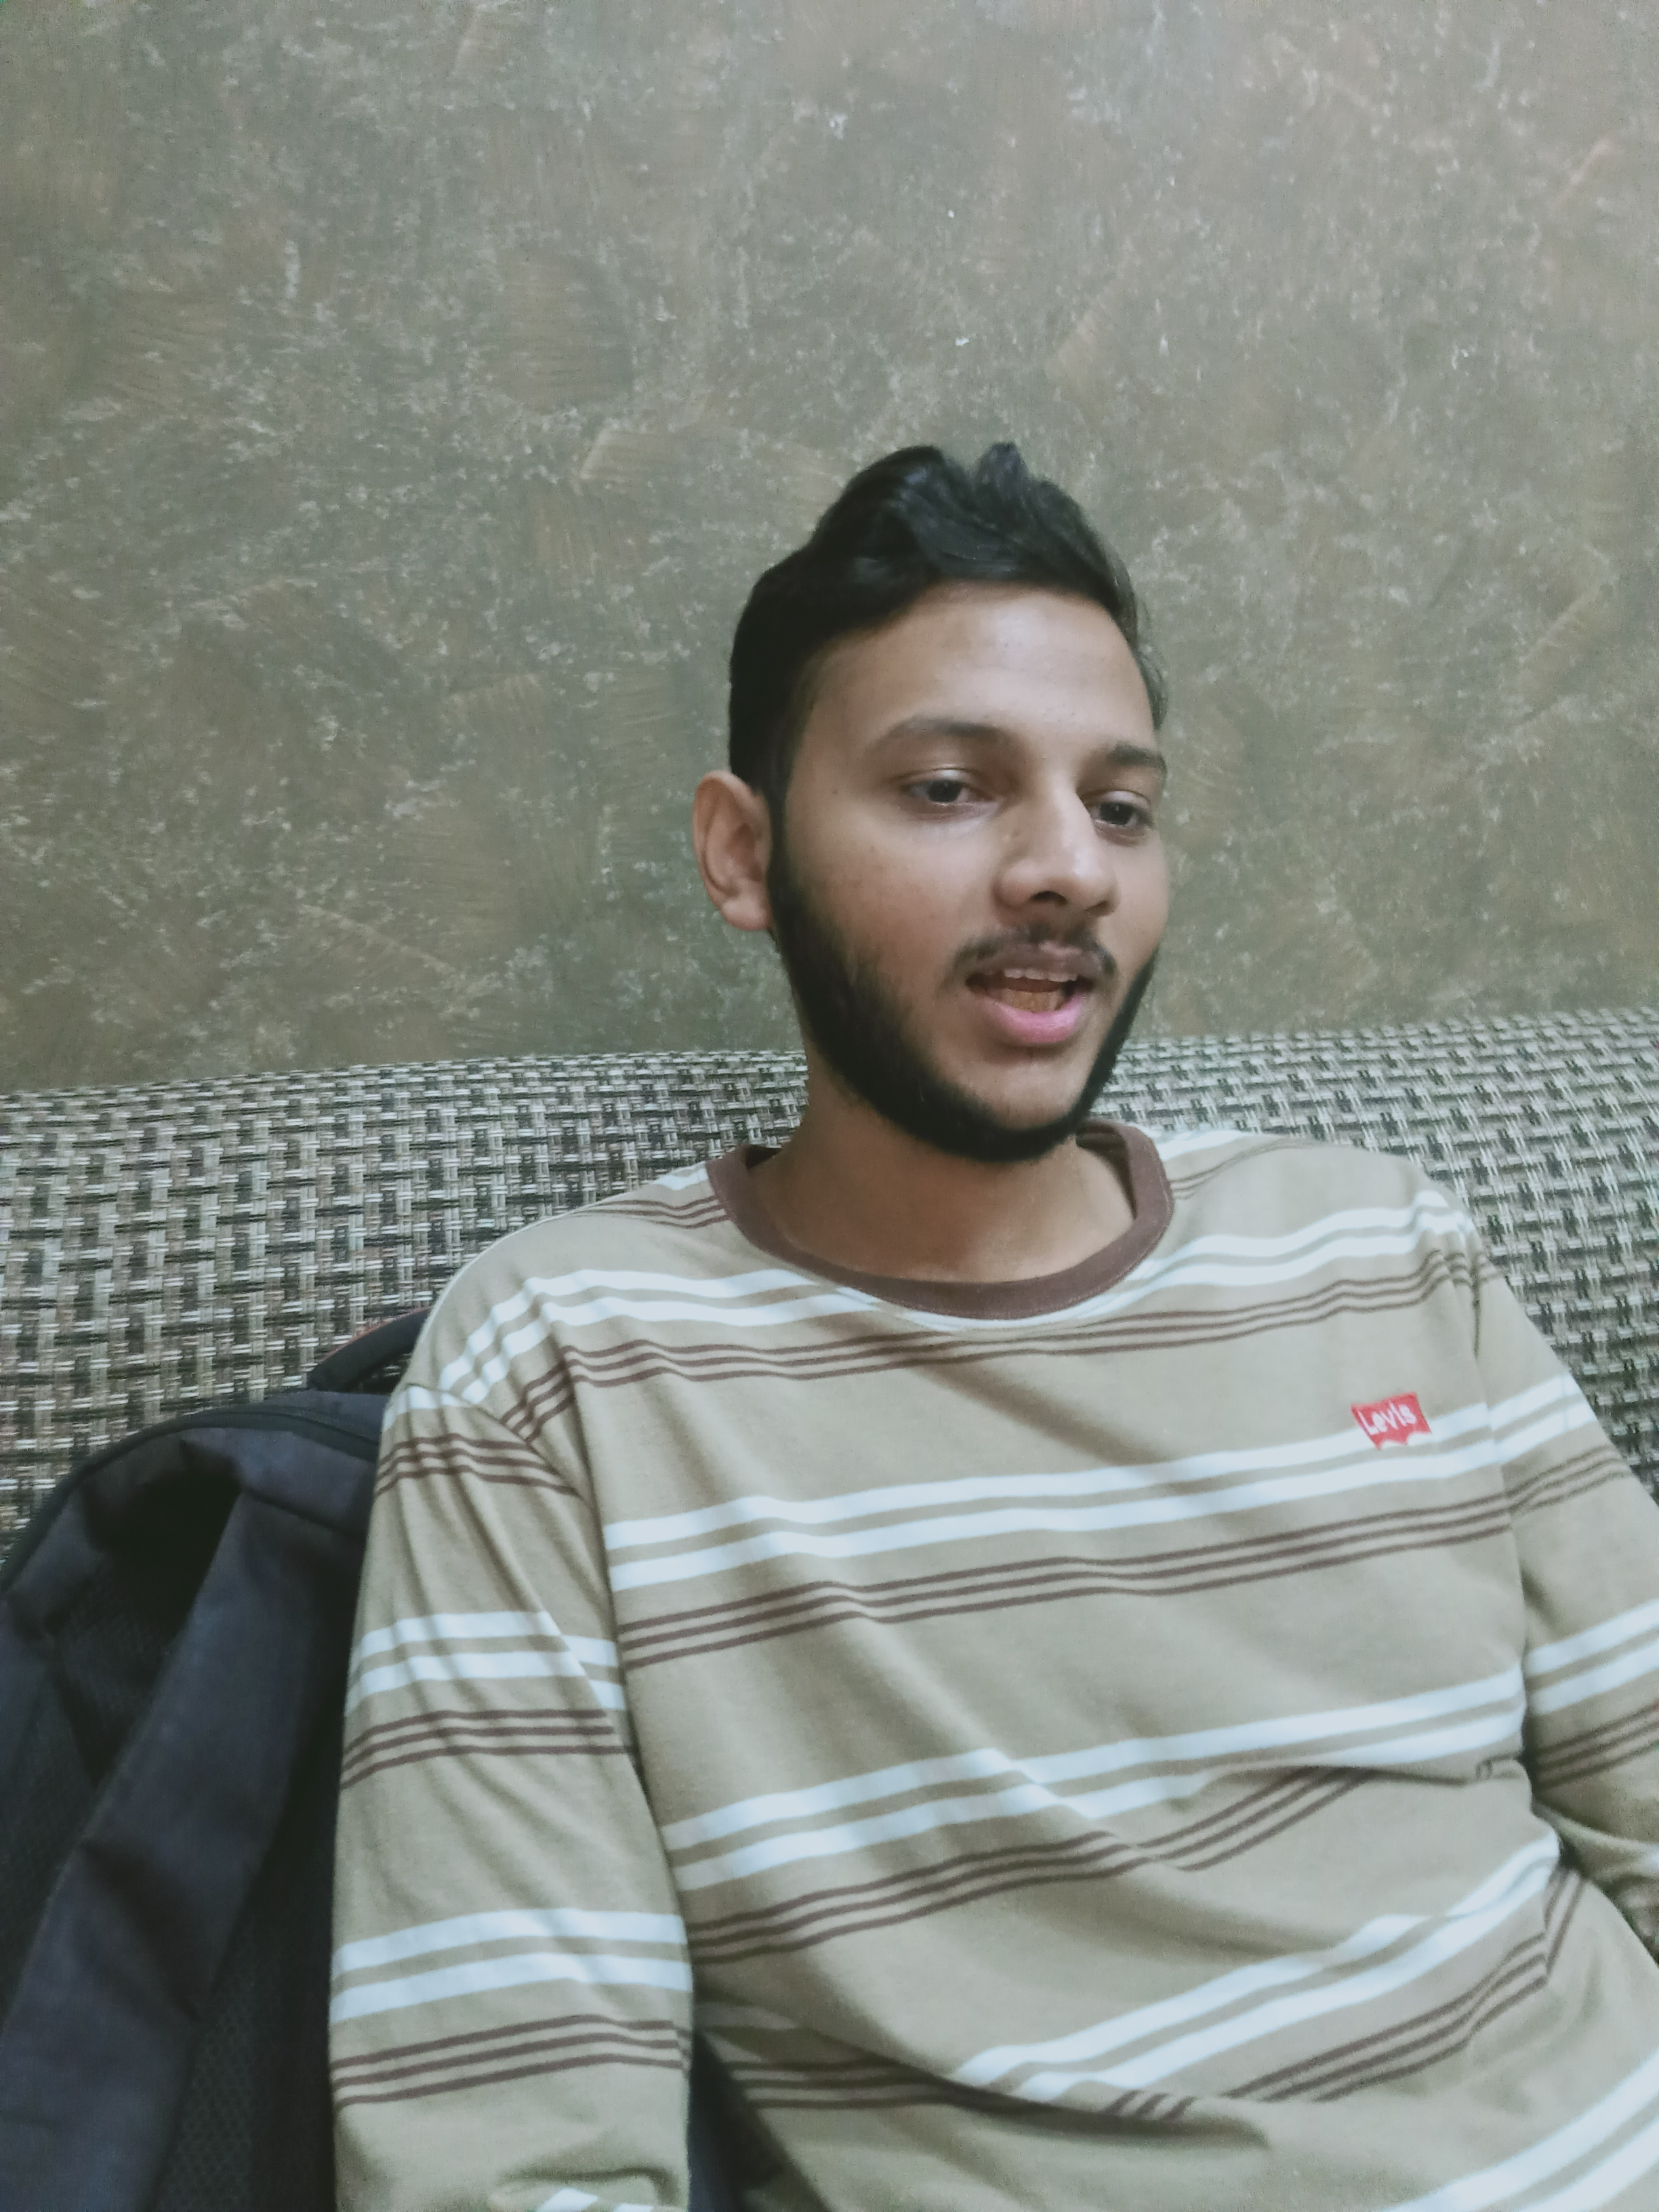NoMask: (829, 686, 1172, 1143)
